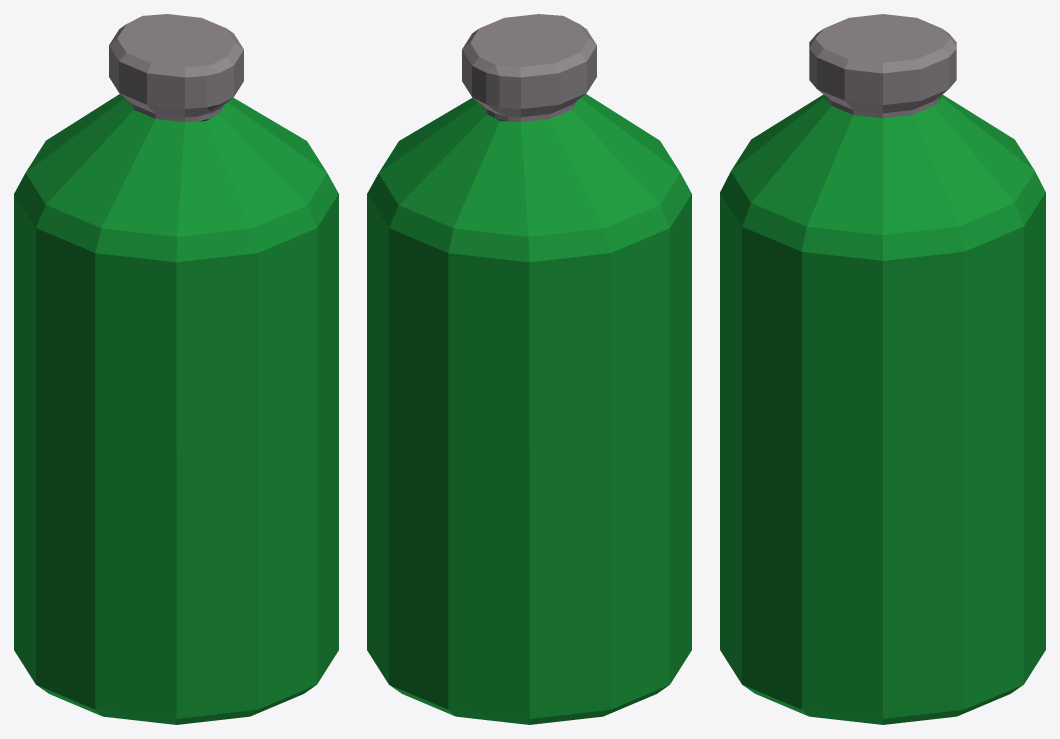
File: flaske.fbx
3 renders of one model, left to right at view 1: azimuth 30°, elevation 25°; view 2: azimuth 150°, elevation 25°; view 3: azimuth 270°, elevation 25°, orthographic.
Visible parts, largest first — view 1: Cylinder, Cylinder.001; view 2: Cylinder, Cylinder.001; view 3: Cylinder, Cylinder.001.
Boxes of the visible parts, left/top/right/bottom form: Cylinder: left=14, top=94, right=338, bottom=724; Cylinder.001: left=109, top=14, right=243, bottom=122; Cylinder: left=367, top=94, right=691, bottom=724; Cylinder.001: left=462, top=14, right=596, bottom=122; Cylinder: left=720, top=94, right=1045, bottom=724; Cylinder.001: left=809, top=14, right=956, bottom=118.
Size of the model in its own units: 52.26 by 110 by 52.26.
